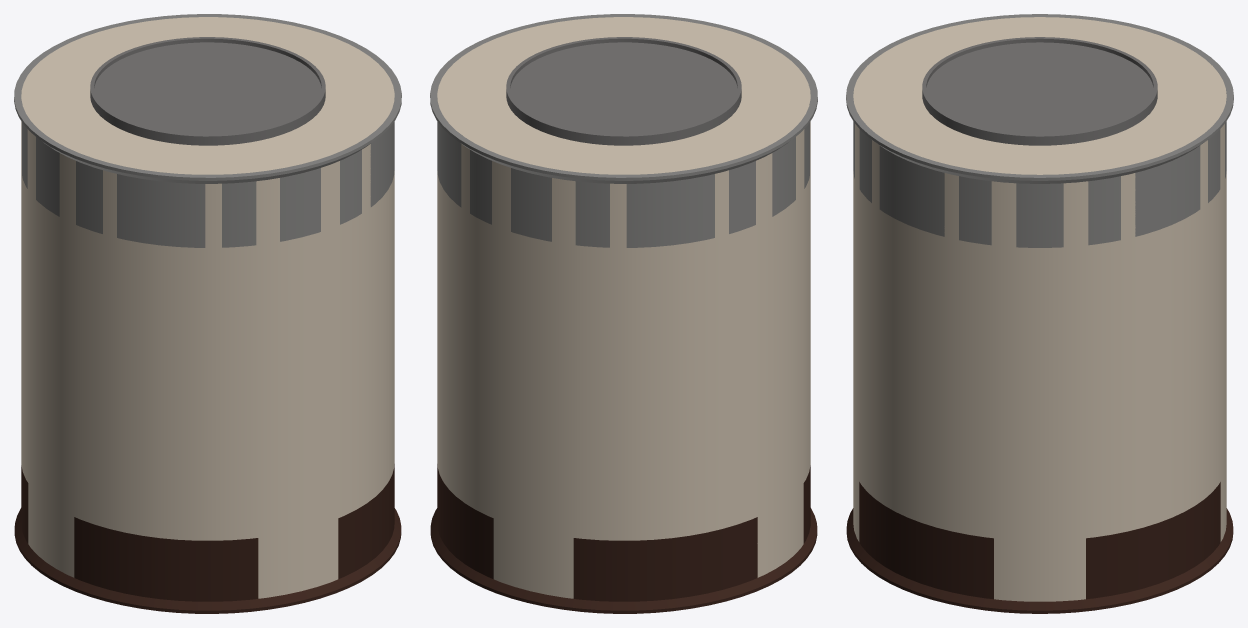
The picture shows the model from 3 angles, left to right: view 1: azimuth 30°, elevation 25°; view 2: azimuth 150°, elevation 25°; view 3: azimuth 270°, elevation 25°; orthographic projection.
Visible parts, largest first — view 1: body, top_band, bottom_band, disk; view 2: body, top_band, bottom_band, disk; view 3: body, top_band, bottom_band, disk.
Part boxes in pixels (x1,y1,x2,y2): body: (21,17,394,598); top_band: (14,14,401,247); bottom_band: (14,464,401,613); disk: (90,37,325,145); body: (437,17,810,598); top_band: (430,14,817,247); bottom_band: (430,464,817,613); disk: (506,37,741,145); body: (853,17,1226,601); top_band: (846,14,1233,247); bottom_band: (846,482,1233,613); disk: (922,37,1157,145).
Size of the model in its own units: 0.1153 by 0.147 by 0.1153.
